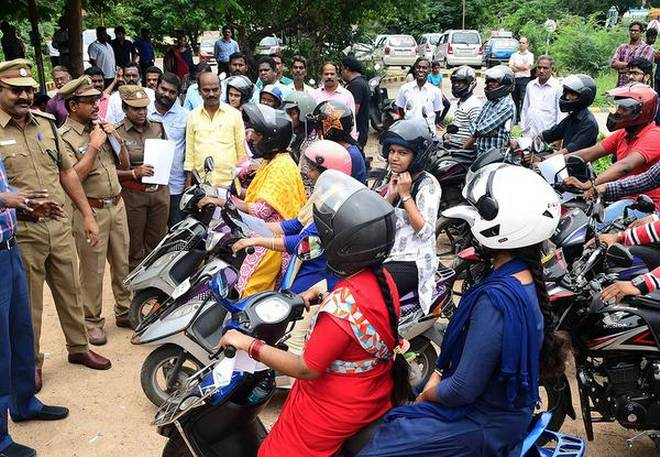with_helmet: (460, 159, 565, 258), (309, 165, 398, 274), (237, 100, 294, 159), (604, 80, 660, 137), (382, 114, 432, 174), (558, 70, 598, 114), (483, 59, 518, 102), (447, 63, 478, 102), (223, 72, 255, 107)
